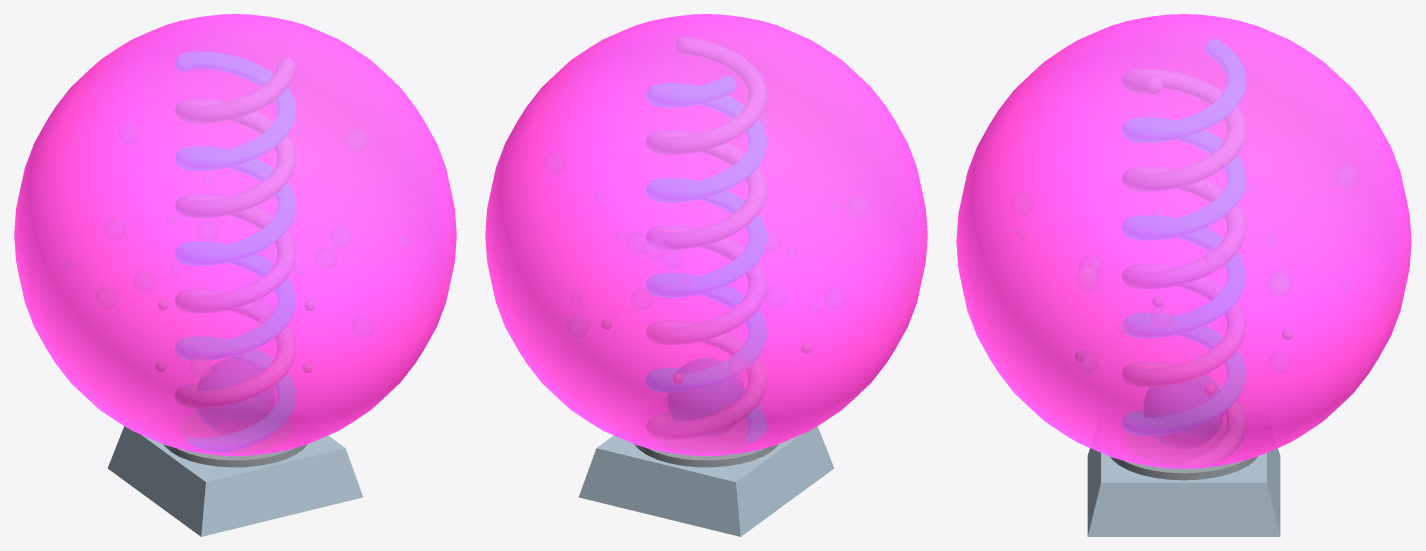
Rendered from BubbleBobble.fbx.
3 views of the same model, side by side, from view 1: azimuth 30°, elevation 25°; view 2: azimuth 150°, elevation 25°; view 3: azimuth 270°, elevation 25° (orthographic). The views are drawn at different scales.
Visible parts, largest first — view 1: glass_sphere, BubbleBobble, spiral3, spiral1, vertical_bouncer, base; view 2: glass_sphere, BubbleBobble, spiral1, spiral3, base, vertical_bouncer; view 3: glass_sphere, spiral3, BubbleBobble, spiral1, base, vertical_bouncer.
Part boxes in pixels (x1=…): glass_sphere: x1=14, y1=14, x2=456, y2=456; BubbleBobble: x1=107, y1=426, x2=362, y2=536; spiral3: x1=175, y1=51, x2=295, y2=451; spiral1: x1=175, y1=58, x2=295, y2=407; vertical_bouncer: x1=197, y1=358, x2=274, y2=431; base: x1=163, y1=411, x2=307, y2=467; glass_sphere: x1=485, y1=14, x2=927, y2=456; BubbleBobble: x1=579, y1=426, x2=834, y2=536; spiral1: x1=646, y1=36, x2=766, y2=439; spiral3: x1=646, y1=76, x2=766, y2=441; base: x1=634, y1=411, x2=778, y2=467; vertical_bouncer: x1=667, y1=358, x2=744, y2=431; glass_sphere: x1=956, y1=14, x2=1411, y2=468; spiral3: x1=1122, y1=39, x2=1245, y2=435; BubbleBobble: x1=1087, y1=448, x2=1280, y2=536; spiral1: x1=1122, y1=69, x2=1245, y2=464; base: x1=1110, y1=422, x2=1257, y2=480; vertical_bouncer: x1=1144, y1=375, x2=1223, y2=443.
Bounding box in the file's own units: 2.27 × 2.53 × 2.27.
